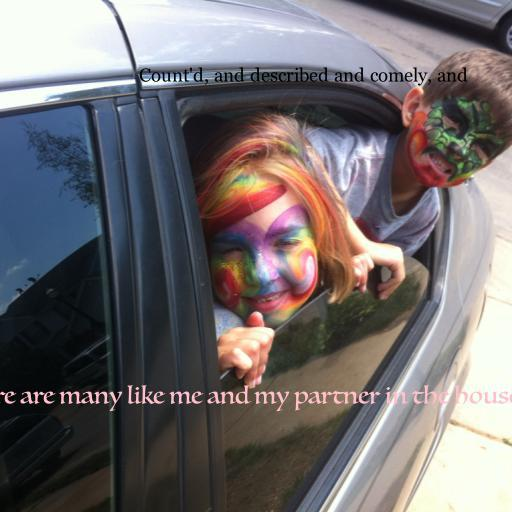Georgia: (138, 67, 468, 86)
Luminari: (0, 385, 512, 412)
